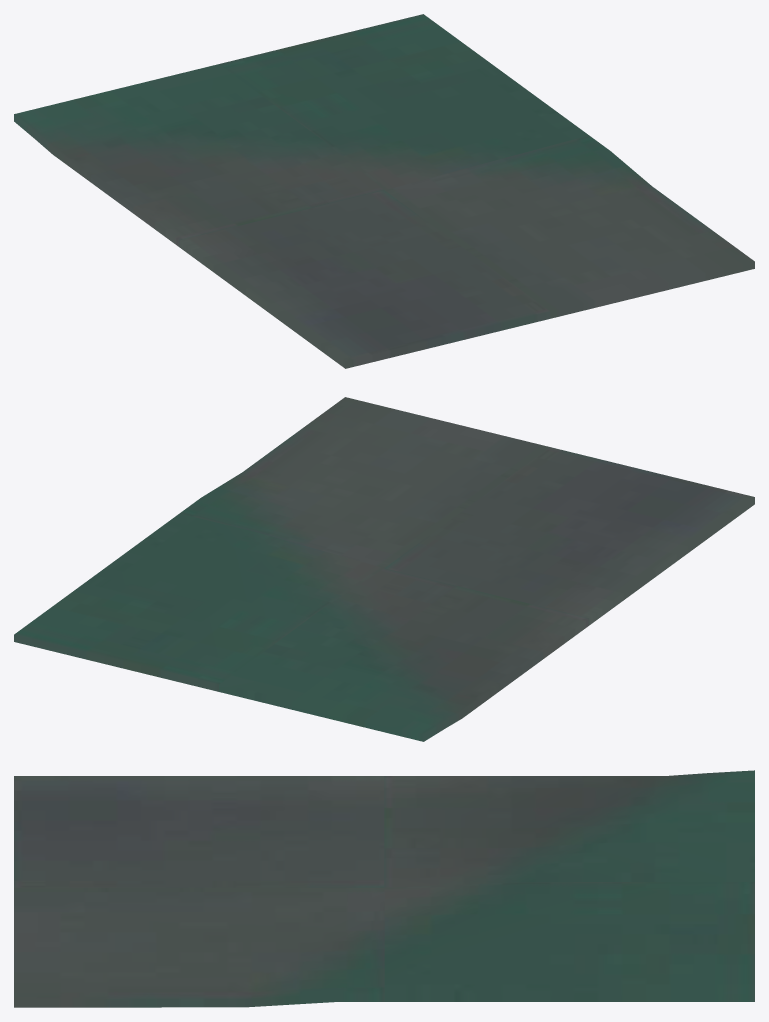
3 views of the same model, one above another, from view 1: azimuth 30°, elevation 25°; view 2: azimuth 150°, elevation 25°; view 3: azimuth 270°, elevation 25° (orthographic). The views are drawn at different scales.
Parts seen in each view (by area): view 1: 304362727043706376_0; view 2: 304362727043706376_0; view 3: 304362727043706376_0.
Part boxes in pixels (x1,y1,x2,y2): 304362727043706376_0: [14, 14, 754, 368]; 304362727043706376_0: [14, 397, 754, 741]; 304362727043706376_0: [14, 770, 754, 1007].
Bounding box in the file's own units: 109 × 3.16 × 153.
1 material, 1 textured.
